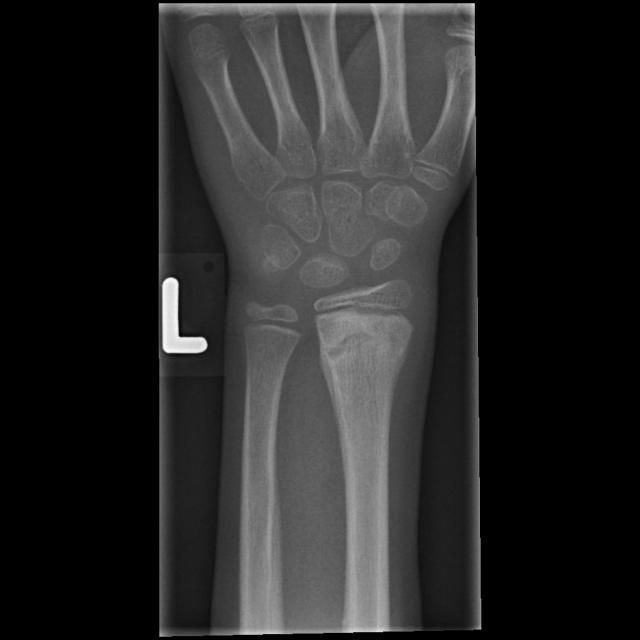radius fracture: (313, 311, 424, 495)
